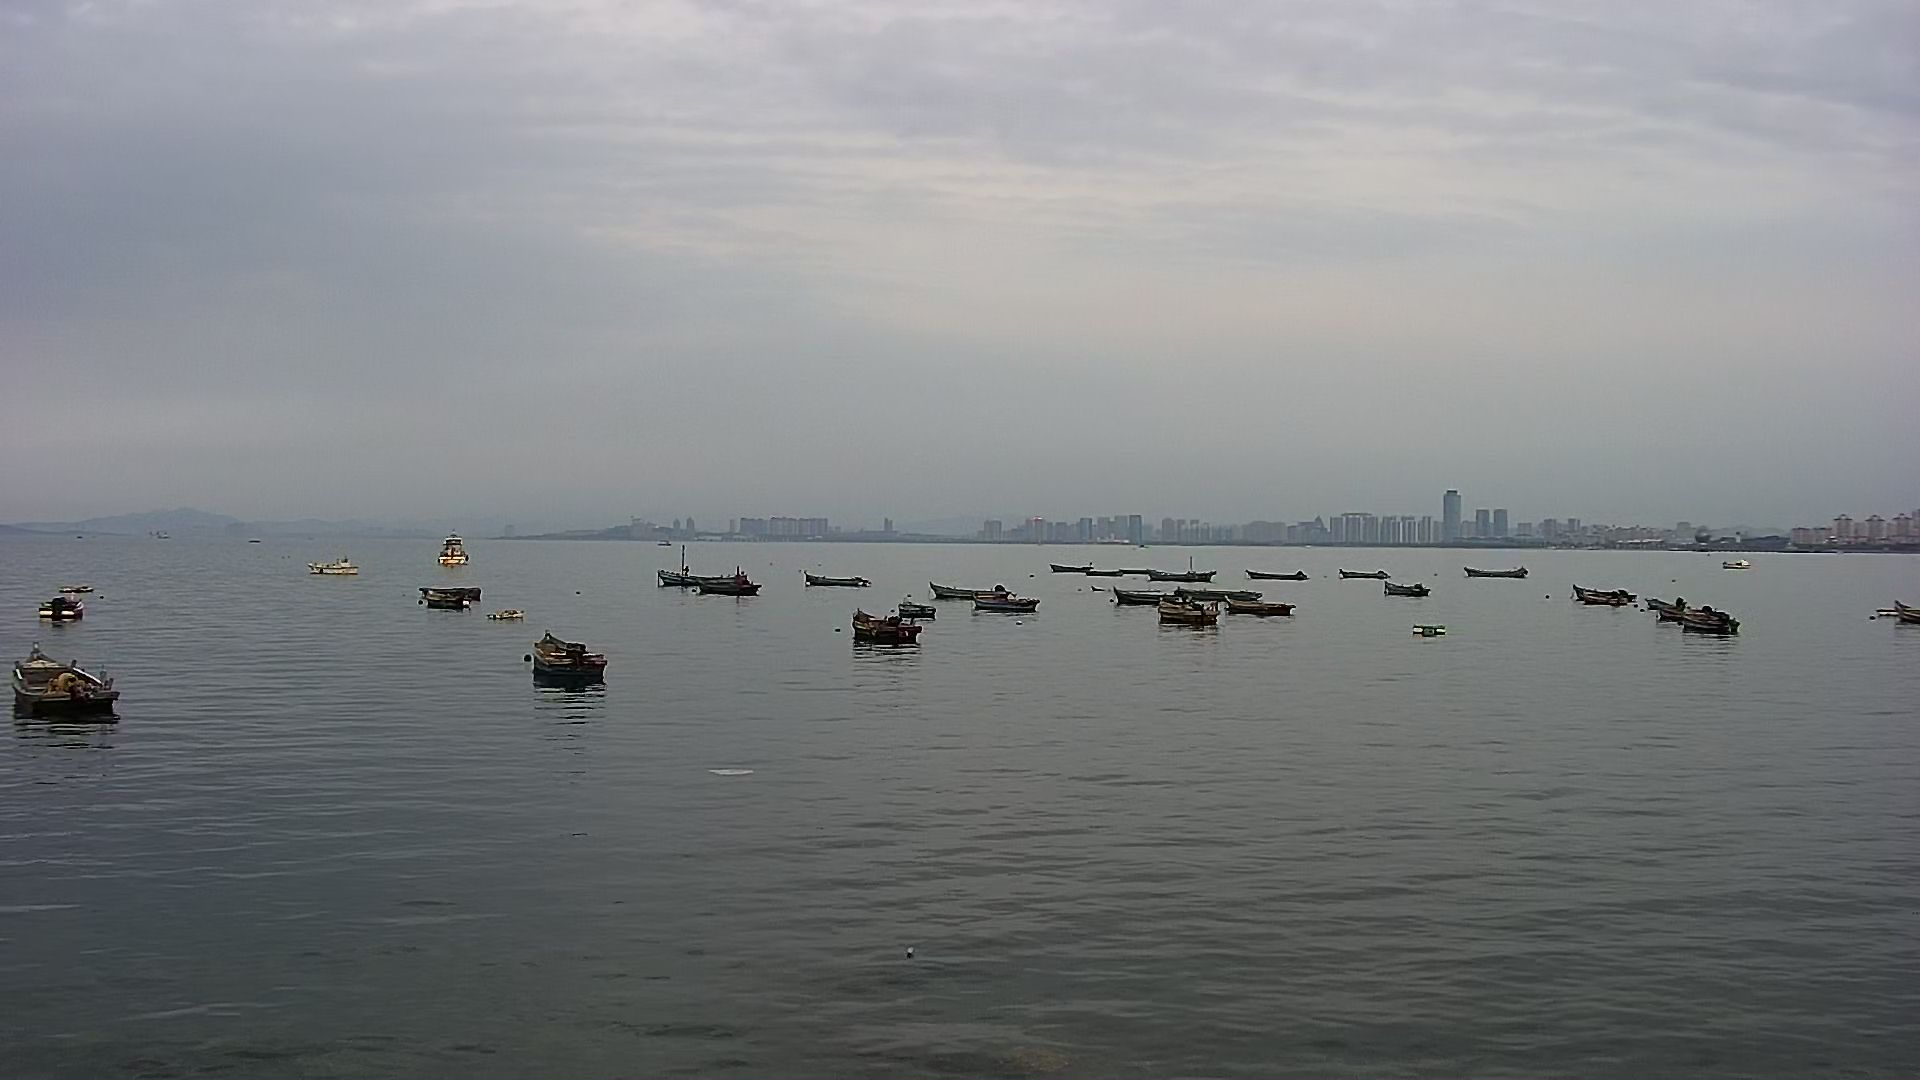boat: (7, 636, 121, 735), (516, 622, 615, 712), (1658, 587, 1747, 645), (662, 563, 758, 615), (30, 572, 105, 634), (802, 553, 887, 601), (1222, 589, 1302, 641), (1149, 587, 1218, 641), (415, 578, 493, 624), (969, 591, 1048, 633), (851, 621, 934, 661), (1576, 583, 1644, 628), (1153, 551, 1222, 588), (1249, 553, 1313, 588), (938, 574, 996, 605), (1100, 560, 1150, 595), (311, 550, 365, 582), (1051, 553, 1095, 591), (1336, 560, 1387, 585), (1386, 576, 1435, 599), (1465, 567, 1522, 585)
platform: (415, 535, 479, 570)
